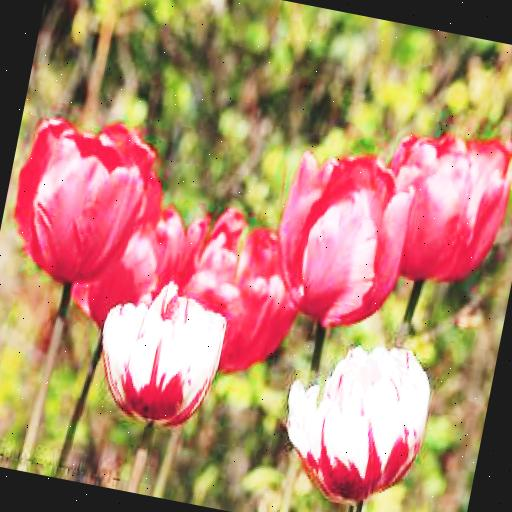rose: (264, 142, 418, 339), (277, 328, 442, 502), (5, 106, 160, 290), (160, 201, 310, 376), (375, 122, 512, 287), (90, 278, 232, 432)
